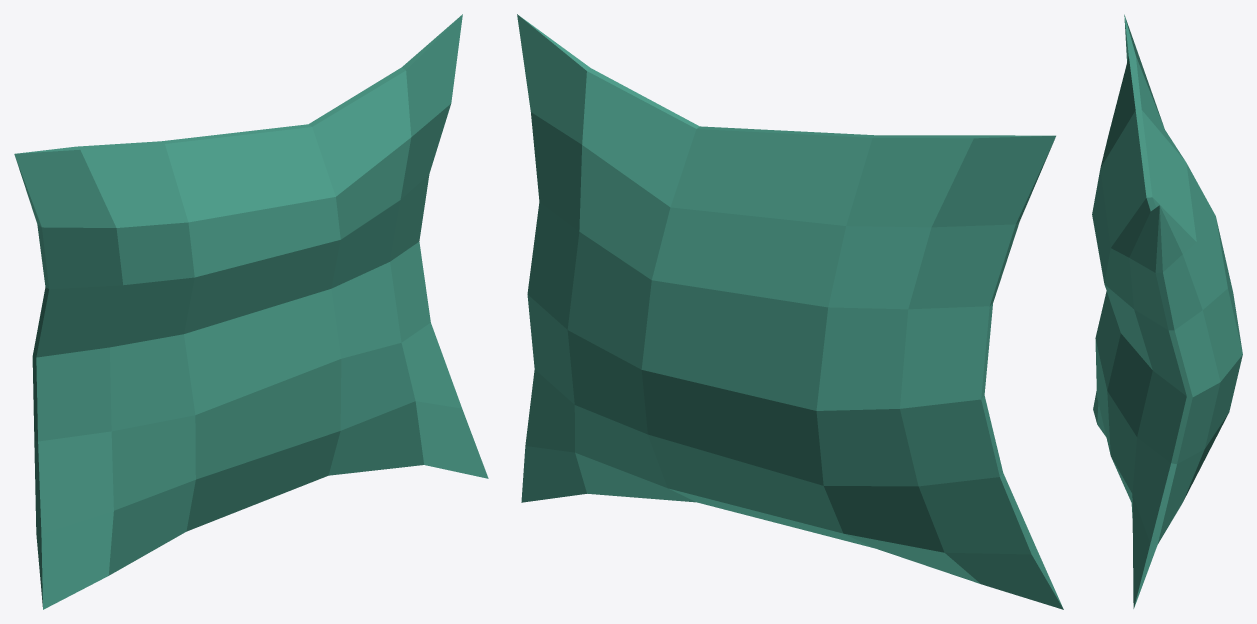
The model's file is Pillow_2.fbx.
3 views of the same model, side by side, from view 1: azimuth 30°, elevation 25°; view 2: azimuth 150°, elevation 25°; view 3: azimuth 270°, elevation 25° (orthographic). The views are drawn at different scales.
Visible parts, largest first — view 1: Pillow_2; view 2: Pillow_2; view 3: Pillow_2.
Part boxes in pixels (bbox=[...]): Pillow_2: bbox=[14, 14, 488, 609]; Pillow_2: bbox=[517, 14, 1063, 609]; Pillow_2: bbox=[1092, 14, 1242, 608].
Bounding box in the file's own units: 65.17 × 20.25 × 59.28.
